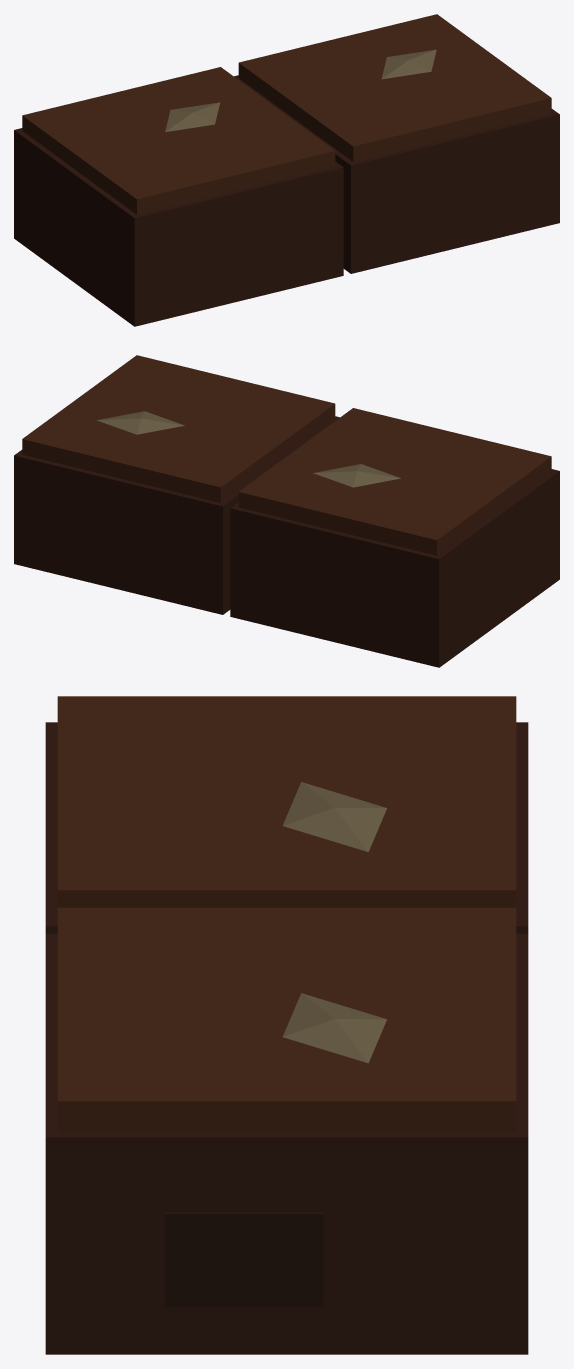
Rendered from pile-mud-2.obj.
3 views of the same model, one above another, from view 1: azimuth 30°, elevation 25°; view 2: azimuth 150°, elevation 25°; view 3: azimuth 270°, elevation 25° (orthographic). The views are drawn at different scales.
Visible parts, largest first — view 1: pile-mud-2; view 2: pile-mud-2; view 3: pile-mud-2.
Part boxes in pixels (x1=…): pile-mud-2: x1=14, y1=14, x2=559, y2=326; pile-mud-2: x1=14, y1=355, x2=559, y2=667; pile-mud-2: x1=45, y1=696, x2=528, y2=1354.
Size of the model in its own units: 0.577 by 0.167 by 0.282.
Materials: 1 (1 with a texture image).
